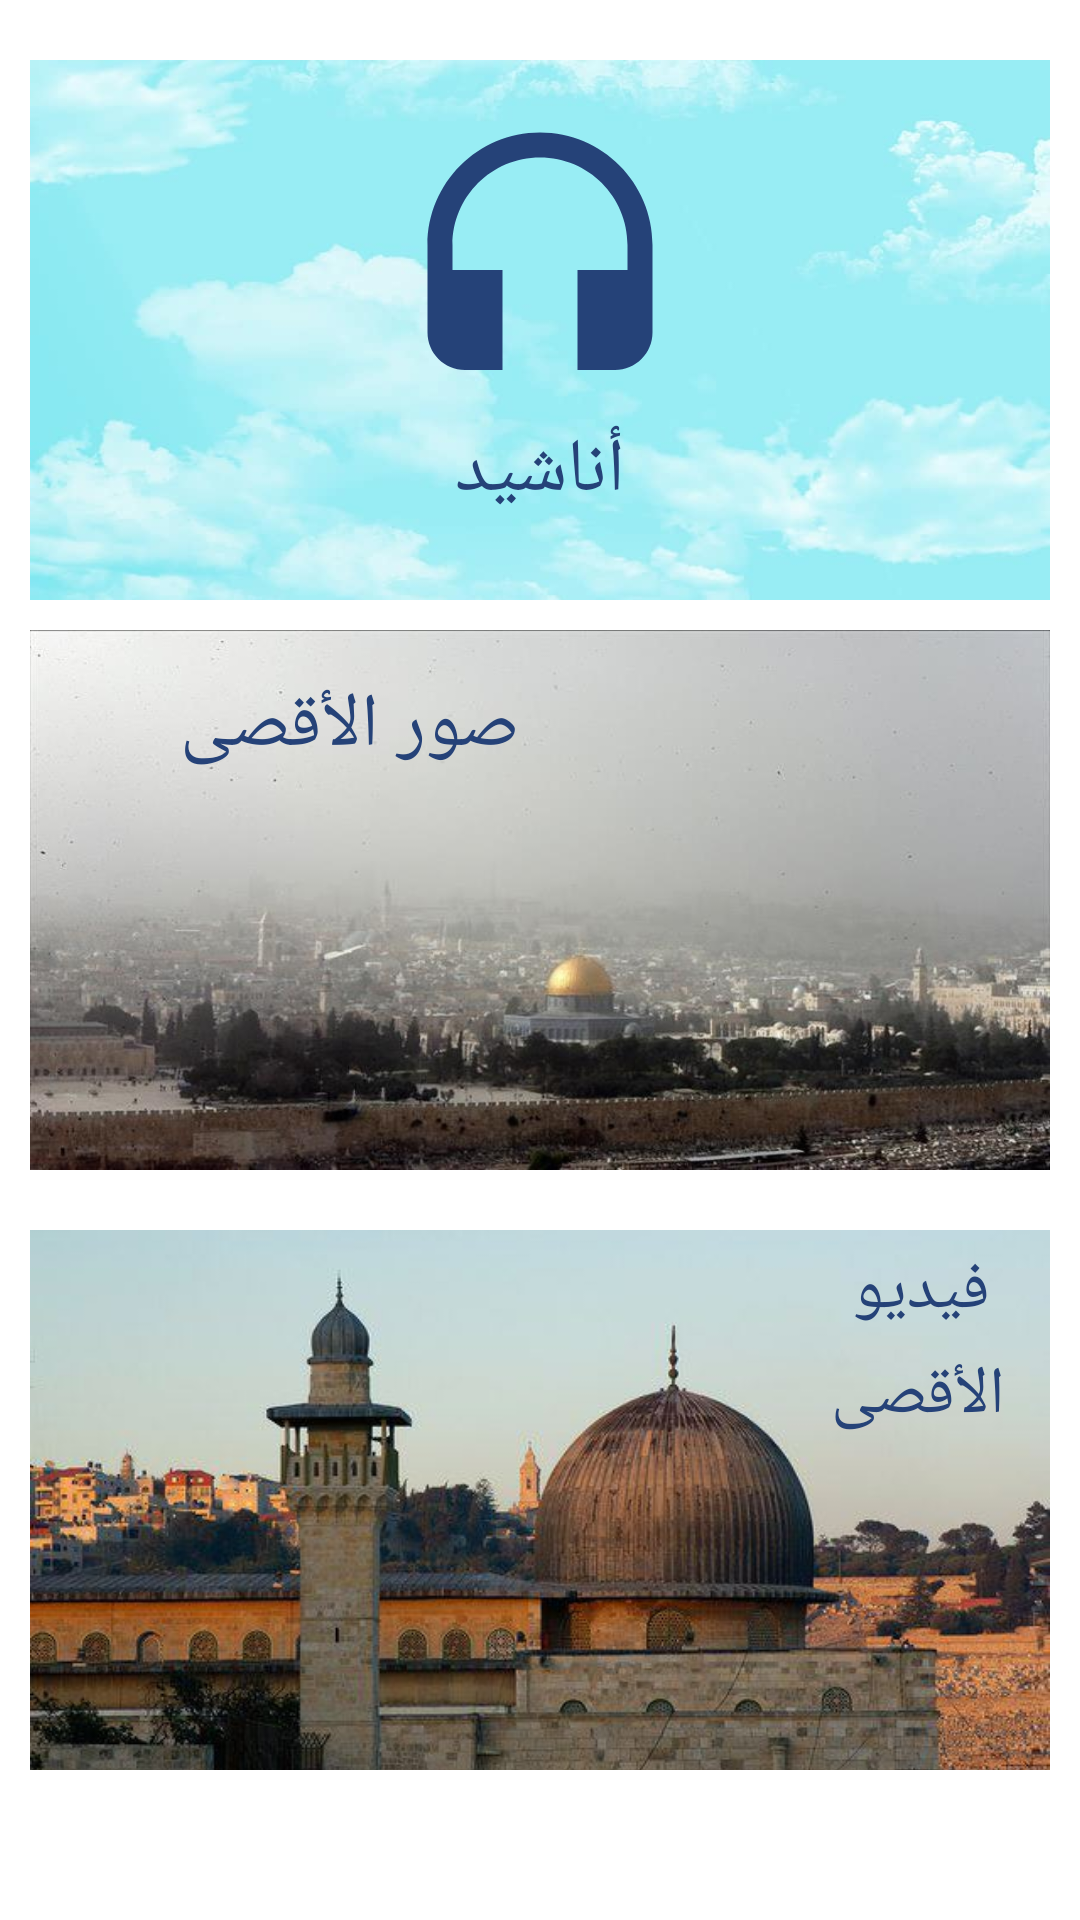

Where to tap for icons on this 1080×1920 app screen, as [x,y]:
headset: [521,276]
